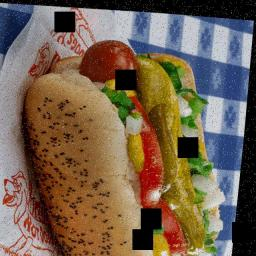hotdog: (10, 28, 244, 256)
